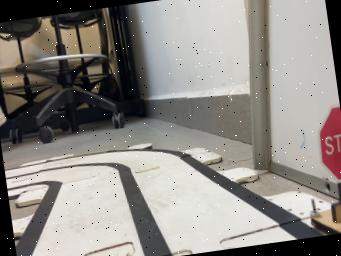stop: (310, 104, 341, 235), (310, 104, 341, 235), (310, 104, 341, 235), (310, 104, 341, 235), (310, 104, 341, 235), (310, 104, 341, 235)
street: (4, 149, 325, 256), (4, 149, 325, 256), (4, 149, 325, 256), (4, 149, 325, 256), (4, 149, 325, 256), (4, 149, 325, 256)
